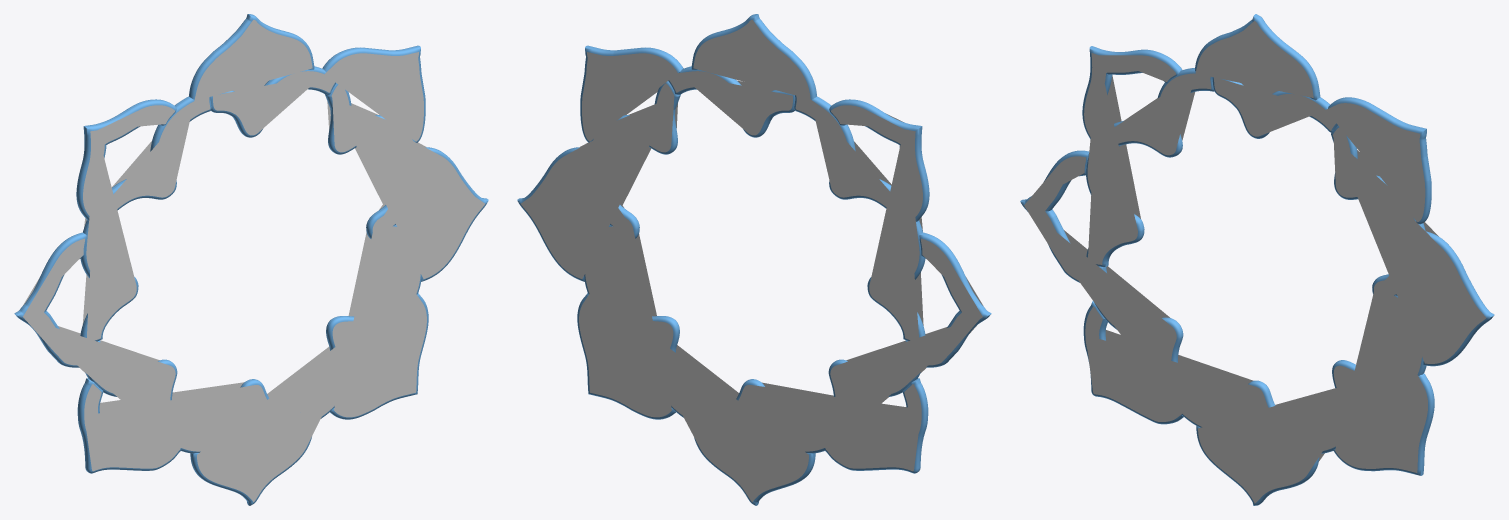
The model's file is marking.fbx.
The picture shows the model from 3 angles, left to right: view 1: azimuth 30°, elevation 25°; view 2: azimuth 150°, elevation 25°; view 3: azimuth 330°, elevation 25°; orthographic projection.
Parts seen in each view (by area): view 1: Cap_1, Rounding_1, Cap_2, Path_1_1, Rounding_2; view 2: Cap_2, Rounding_2, Cap_1, Path_1_1, Rounding_1; view 3: Cap_1, Rounding_1, Cap_2, Path_1_1, Rounding_2.
Part boxes in pixels (x1,y1,x2,y2): Cap_1: (23,20,484,502); Rounding_1: (16,15,488,505); Cap_2: (23,80,426,412); Path_1_1: (15,14,487,505); Rounding_2: (14,14,486,503); Cap_2: (521,20,982,502); Rounding_2: (517,15,989,505); Cap_1: (580,68,983,403); Path_1_1: (518,14,990,505); Rounding_1: (519,14,991,503); Cap_1: (1024,21,1485,503); Rounding_1: (1020,15,1492,505); Cap_2: (1064,75,1438,461); Path_1_1: (1021,14,1494,502); Rounding_2: (1022,14,1494,473).
Bounding box in the file's own units: 621 × 616 × 11.
